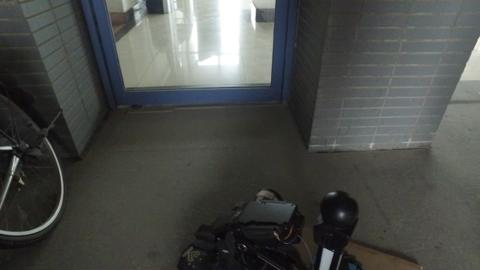chariot: (179, 187, 371, 268)
